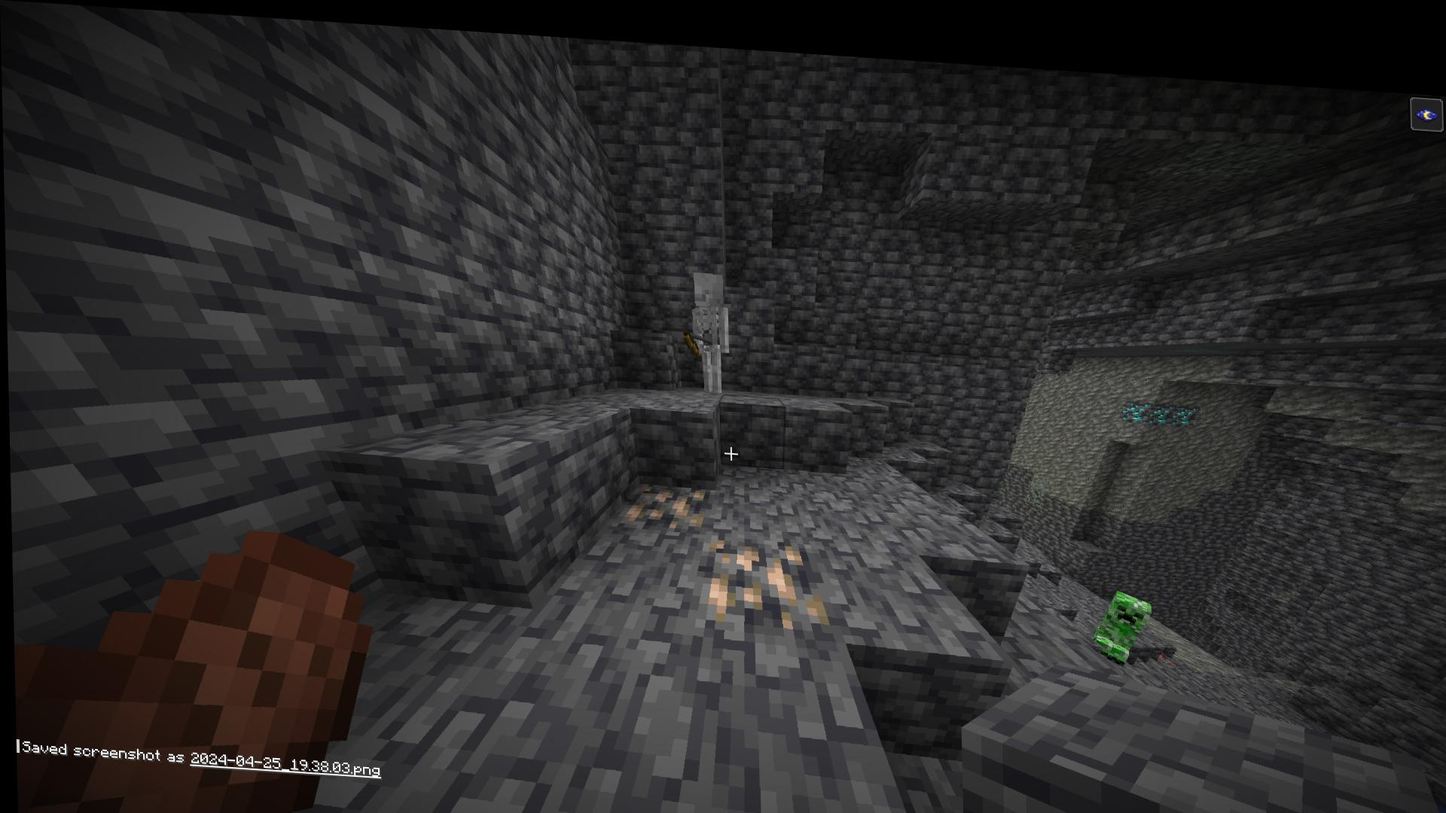diamond ore: (1167, 387, 1198, 410), (1143, 385, 1171, 409), (1119, 384, 1148, 404)
iron ore: (697, 525, 824, 623), (616, 470, 709, 523)
redstone ore: (1156, 637, 1174, 651)
